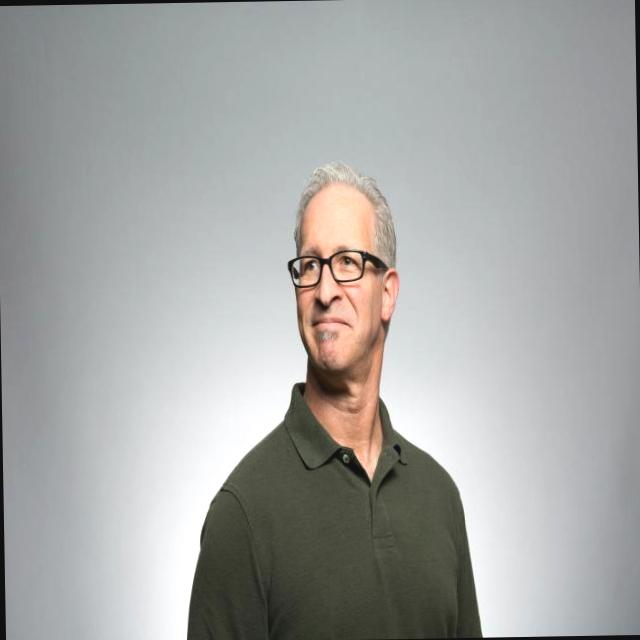person: (176, 158, 482, 640)
